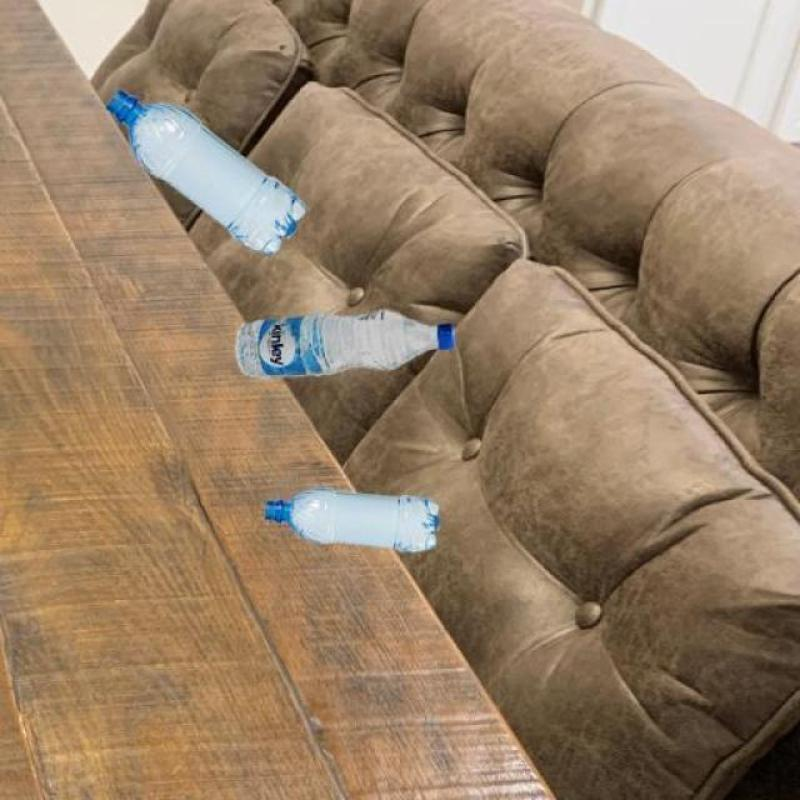botella: (106, 89, 308, 253), (237, 308, 456, 378), (265, 488, 440, 552)
